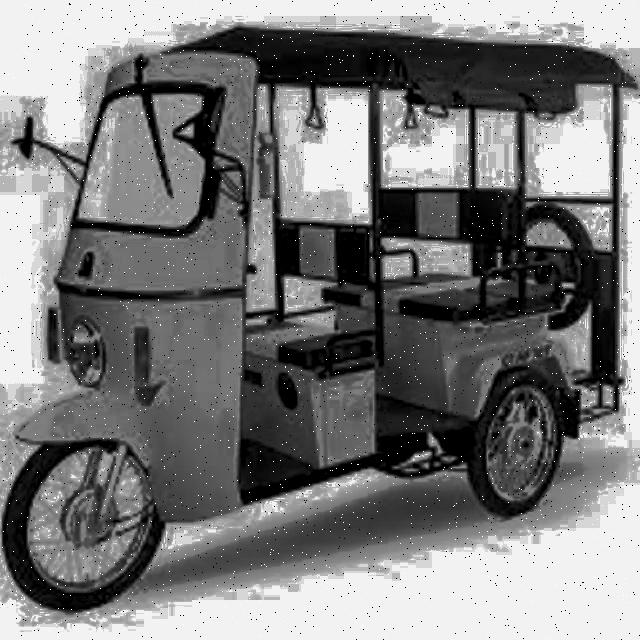Toto: (26, 32, 640, 596)
